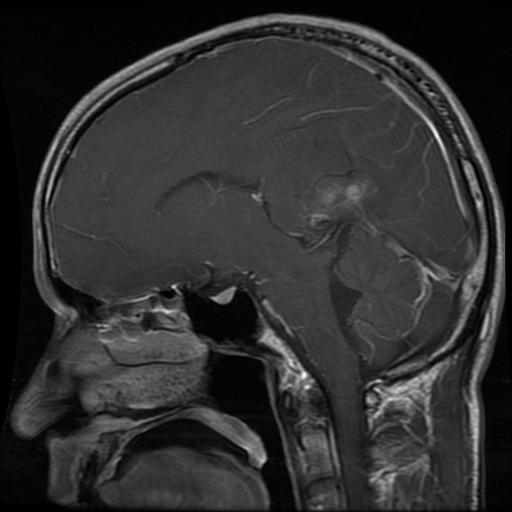Gliomia_tumour: (302, 174, 377, 224)
